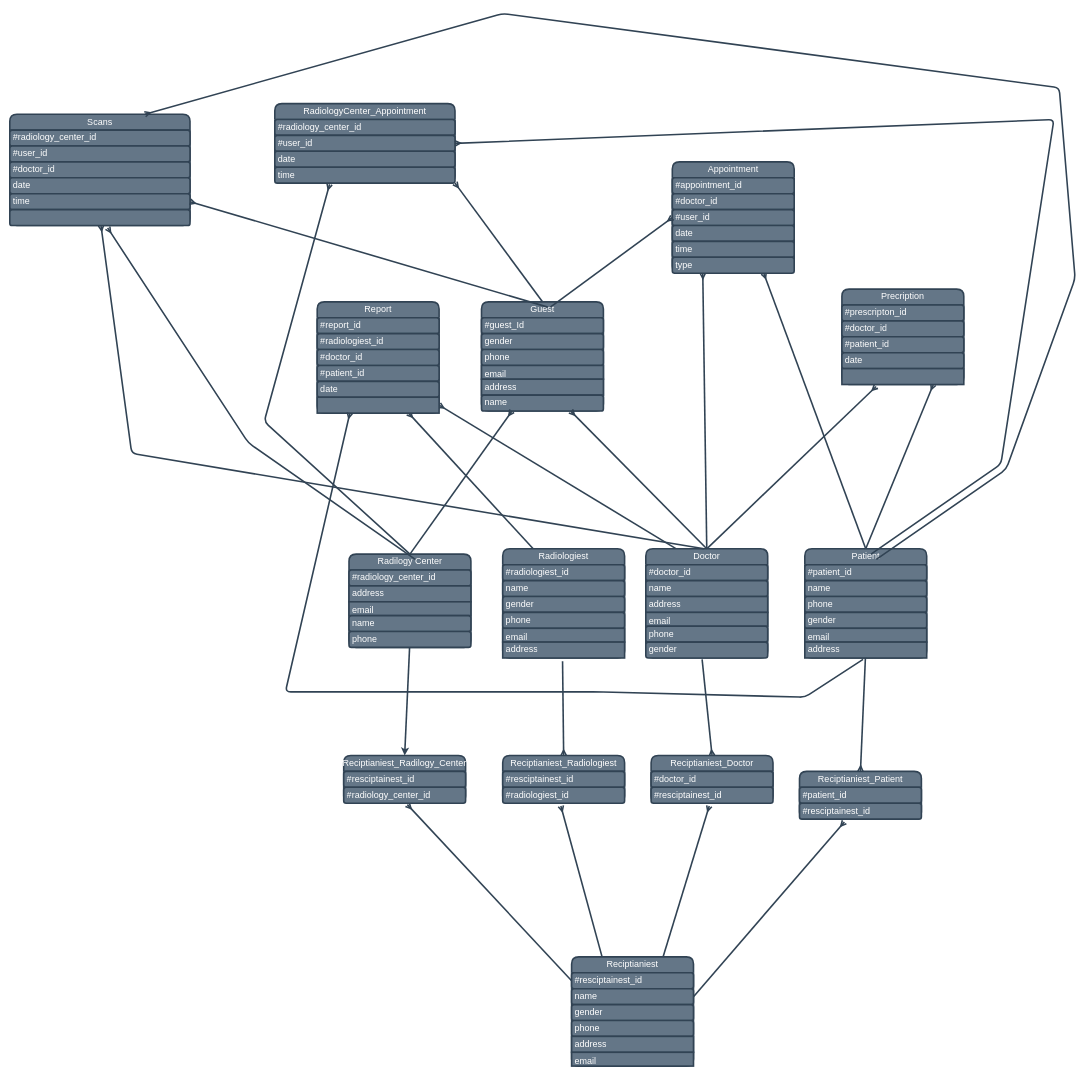
This 1089x1077 diagram has some shape labels left out. The shapes that lost their labels are listed below. From the top down, each one's centre as x and y in pixels, then its label:
pixel 100 217: type of user
pixel 902 376: drug
pixel 378 405: details
